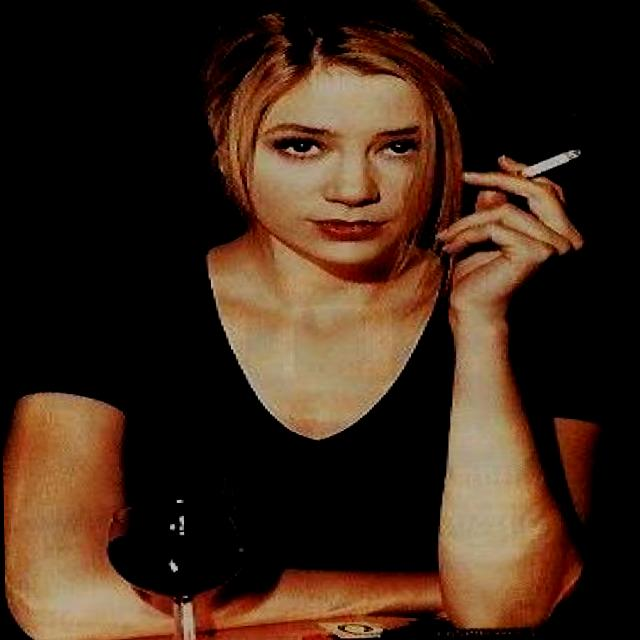smoke: (502, 130, 598, 196)
